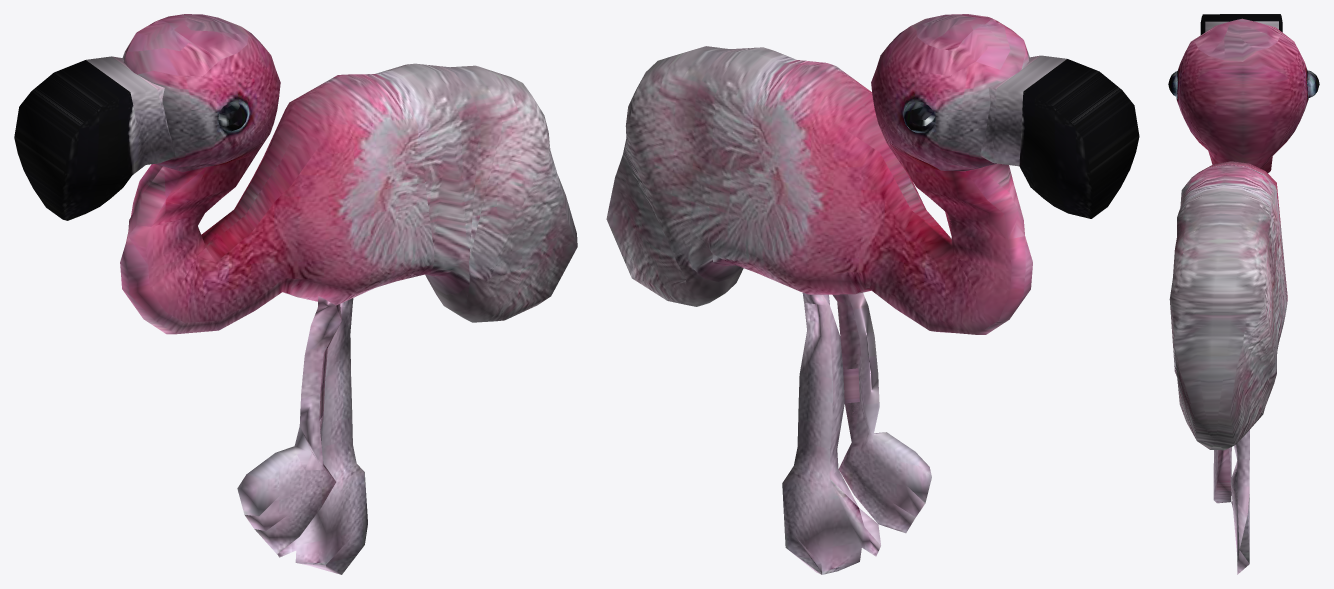
File: WorldItem_FlamingoPlushie.fbx
3 renders of one model, left to right at view 1: azimuth 30°, elevation 25°; view 2: azimuth 150°, elevation 25°; view 3: azimuth 270°, elevation 25°, orthographic. The views are drawn at different scales.
Visible parts, largest first — view 1: Flamingo; view 2: Flamingo; view 3: Flamingo.
Part boxes in pixels (<box>): Flamingo: <box>14,14,577,574</box>; Flamingo: <box>606,14,1139,574</box>; Flamingo: <box>1168,14,1319,574</box>.
Bounding box in the file's own units: 0.2886 × 0.3135 × 0.0881.
